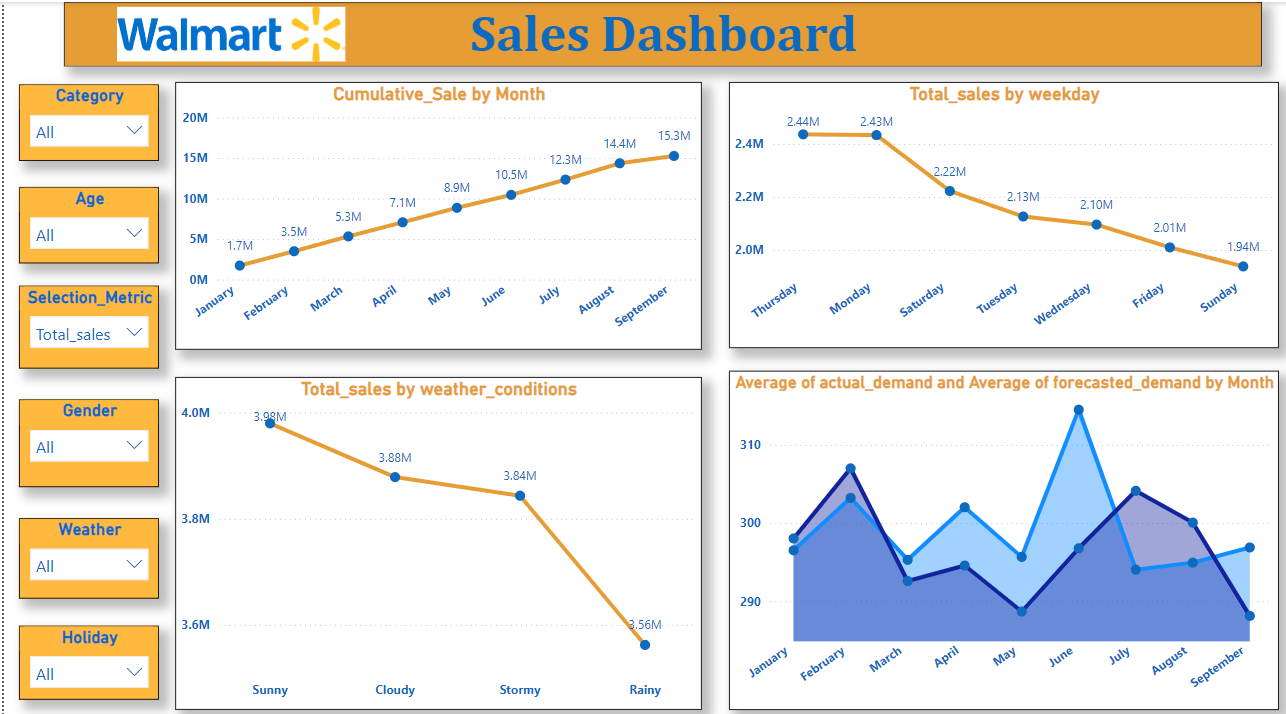

The dashboard page shown, as its layout file describes it:
{"tool":"powerbi","page":{"name":"Sales","canvas":[1280,720],"ordinal":1},"visuals":[{"type":"textbox","title":"Sales Dashboard","box":[60.1,0,1192,63.9],"z":0},{"type":"areaChart","fields":{"Category":["Dim_date.Date.Variation.Date Hierarchy.Month"],"Y":["Avg(Walmart.actual_demand)","Avg(Walmart.forecasted_demand)"]},"box":[721.3,367.1,547.4,337.7],"z":1000},{"type":"lineChart","fields":{"Category":["Dim_date.Date.Variation.Date Hierarchy.Month"],"Y":["Dim_date.Cumulative_Sale"]},"box":[170.1,79.3,524.4,266],"z":2000},{"type":"slicer","title":"Category","fields":{"Values":["Walmart.category"]},"box":[14.9,82.1,139.3,75.9],"z":3000},{"type":"slicer","title":"Age","fields":{"Values":["Walmart.customer_age (groups)"]},"box":[14.9,184.1,139.3,75.9],"z":4000},{"type":"slicer","title":"Gender","fields":{"Values":["Walmart.customer_gender"]},"box":[14.9,395.6,139.3,87.1],"z":5000},{"type":"slicer","title":"Weather","fields":{"Values":["Walmart.weather_conditions"]},"box":[14.9,513.8,139.3,79.6],"z":6000},{"type":"slicer","title":"Holiday","fields":{"Values":["Walmart.holiday_indicator"]},"box":[14.9,620.7,139.3,73.4],"z":7000},{"type":"image","box":[60.1,0,332.5,63.9],"z":8000},{"type":"lineChart","fields":{"Y":["Dim_date.Total_sales"],"Category":["Walmart.weekday"]},"box":[721.5,79.6,547.3,265],"z":9000},{"type":"slicer","title":"Selection_Metric","fields":{"Values":["Metric.Parameter"]},"box":[14.9,282.4,139.3,82.1],"z":10000},{"type":"lineChart","fields":{"Y":["Dim_date.Total_sales"],"Category":["Walmart.weather_conditions"]},"box":[170.4,373.2,523.7,330.9],"z":11000}]}

Visuals, with their boxes in screenshot pixels (x1, y1, x2, y2), scaled from the page's 1280x720 canvas onto the 1286x714 screenshot:
"Sales Dashboard" textbox: {"left": 60, "top": 0, "right": 1258, "bottom": 63}
areaChart - Dim_date.Date.Variation.Date Hierarchy.Month x Avg(Walmart.actual_demand): {"left": 725, "top": 364, "right": 1275, "bottom": 699}
lineChart - Dim_date.Date.Variation.Date Hierarchy.Month x Dim_date.Cumulative_Sale: {"left": 171, "top": 79, "right": 698, "bottom": 342}
"Category" slicer: {"left": 15, "top": 81, "right": 155, "bottom": 157}
"Age" slicer: {"left": 15, "top": 183, "right": 155, "bottom": 258}
"Gender" slicer: {"left": 15, "top": 392, "right": 155, "bottom": 479}
"Weather" slicer: {"left": 15, "top": 510, "right": 155, "bottom": 588}
"Holiday" slicer: {"left": 15, "top": 616, "right": 155, "bottom": 688}
image: {"left": 60, "top": 0, "right": 394, "bottom": 63}
lineChart - Dim_date.Total_sales x Walmart.weekday: {"left": 725, "top": 79, "right": 1275, "bottom": 342}
"Selection_Metric" slicer: {"left": 15, "top": 280, "right": 155, "bottom": 361}
lineChart - Dim_date.Total_sales x Walmart.weather_conditions: {"left": 171, "top": 370, "right": 697, "bottom": 698}
